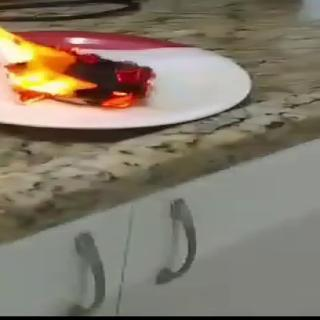fire: (0, 0, 164, 114)
